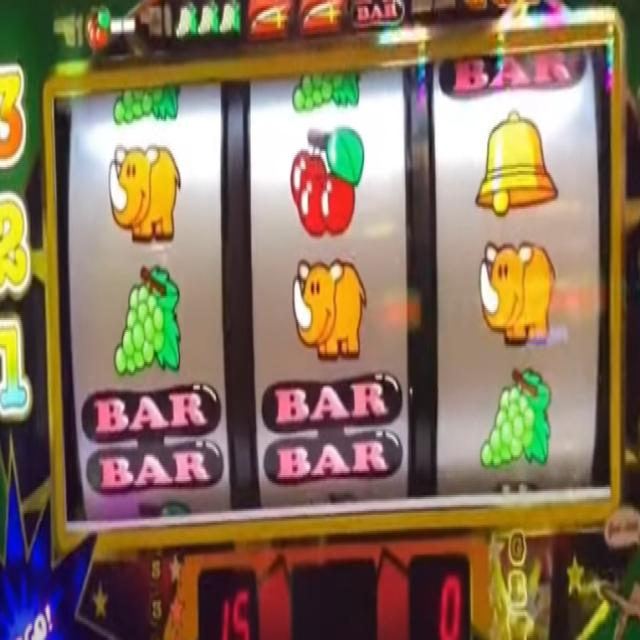bar: (79, 379, 225, 501), (260, 370, 402, 493), (437, 59, 595, 106), (354, 0, 404, 24)
bell: (474, 109, 558, 224)
cherry: (290, 124, 366, 240), (84, 8, 110, 54)
display: (48, 36, 616, 536)
elephant: (478, 244, 556, 349), (293, 258, 368, 364), (107, 144, 180, 240)
grape: (112, 262, 184, 374), (479, 367, 552, 468), (111, 82, 182, 125), (291, 76, 363, 115), (175, 2, 198, 44), (198, 0, 220, 39), (220, 0, 242, 34)
z: (248, 0, 292, 38), (300, 0, 346, 36)
